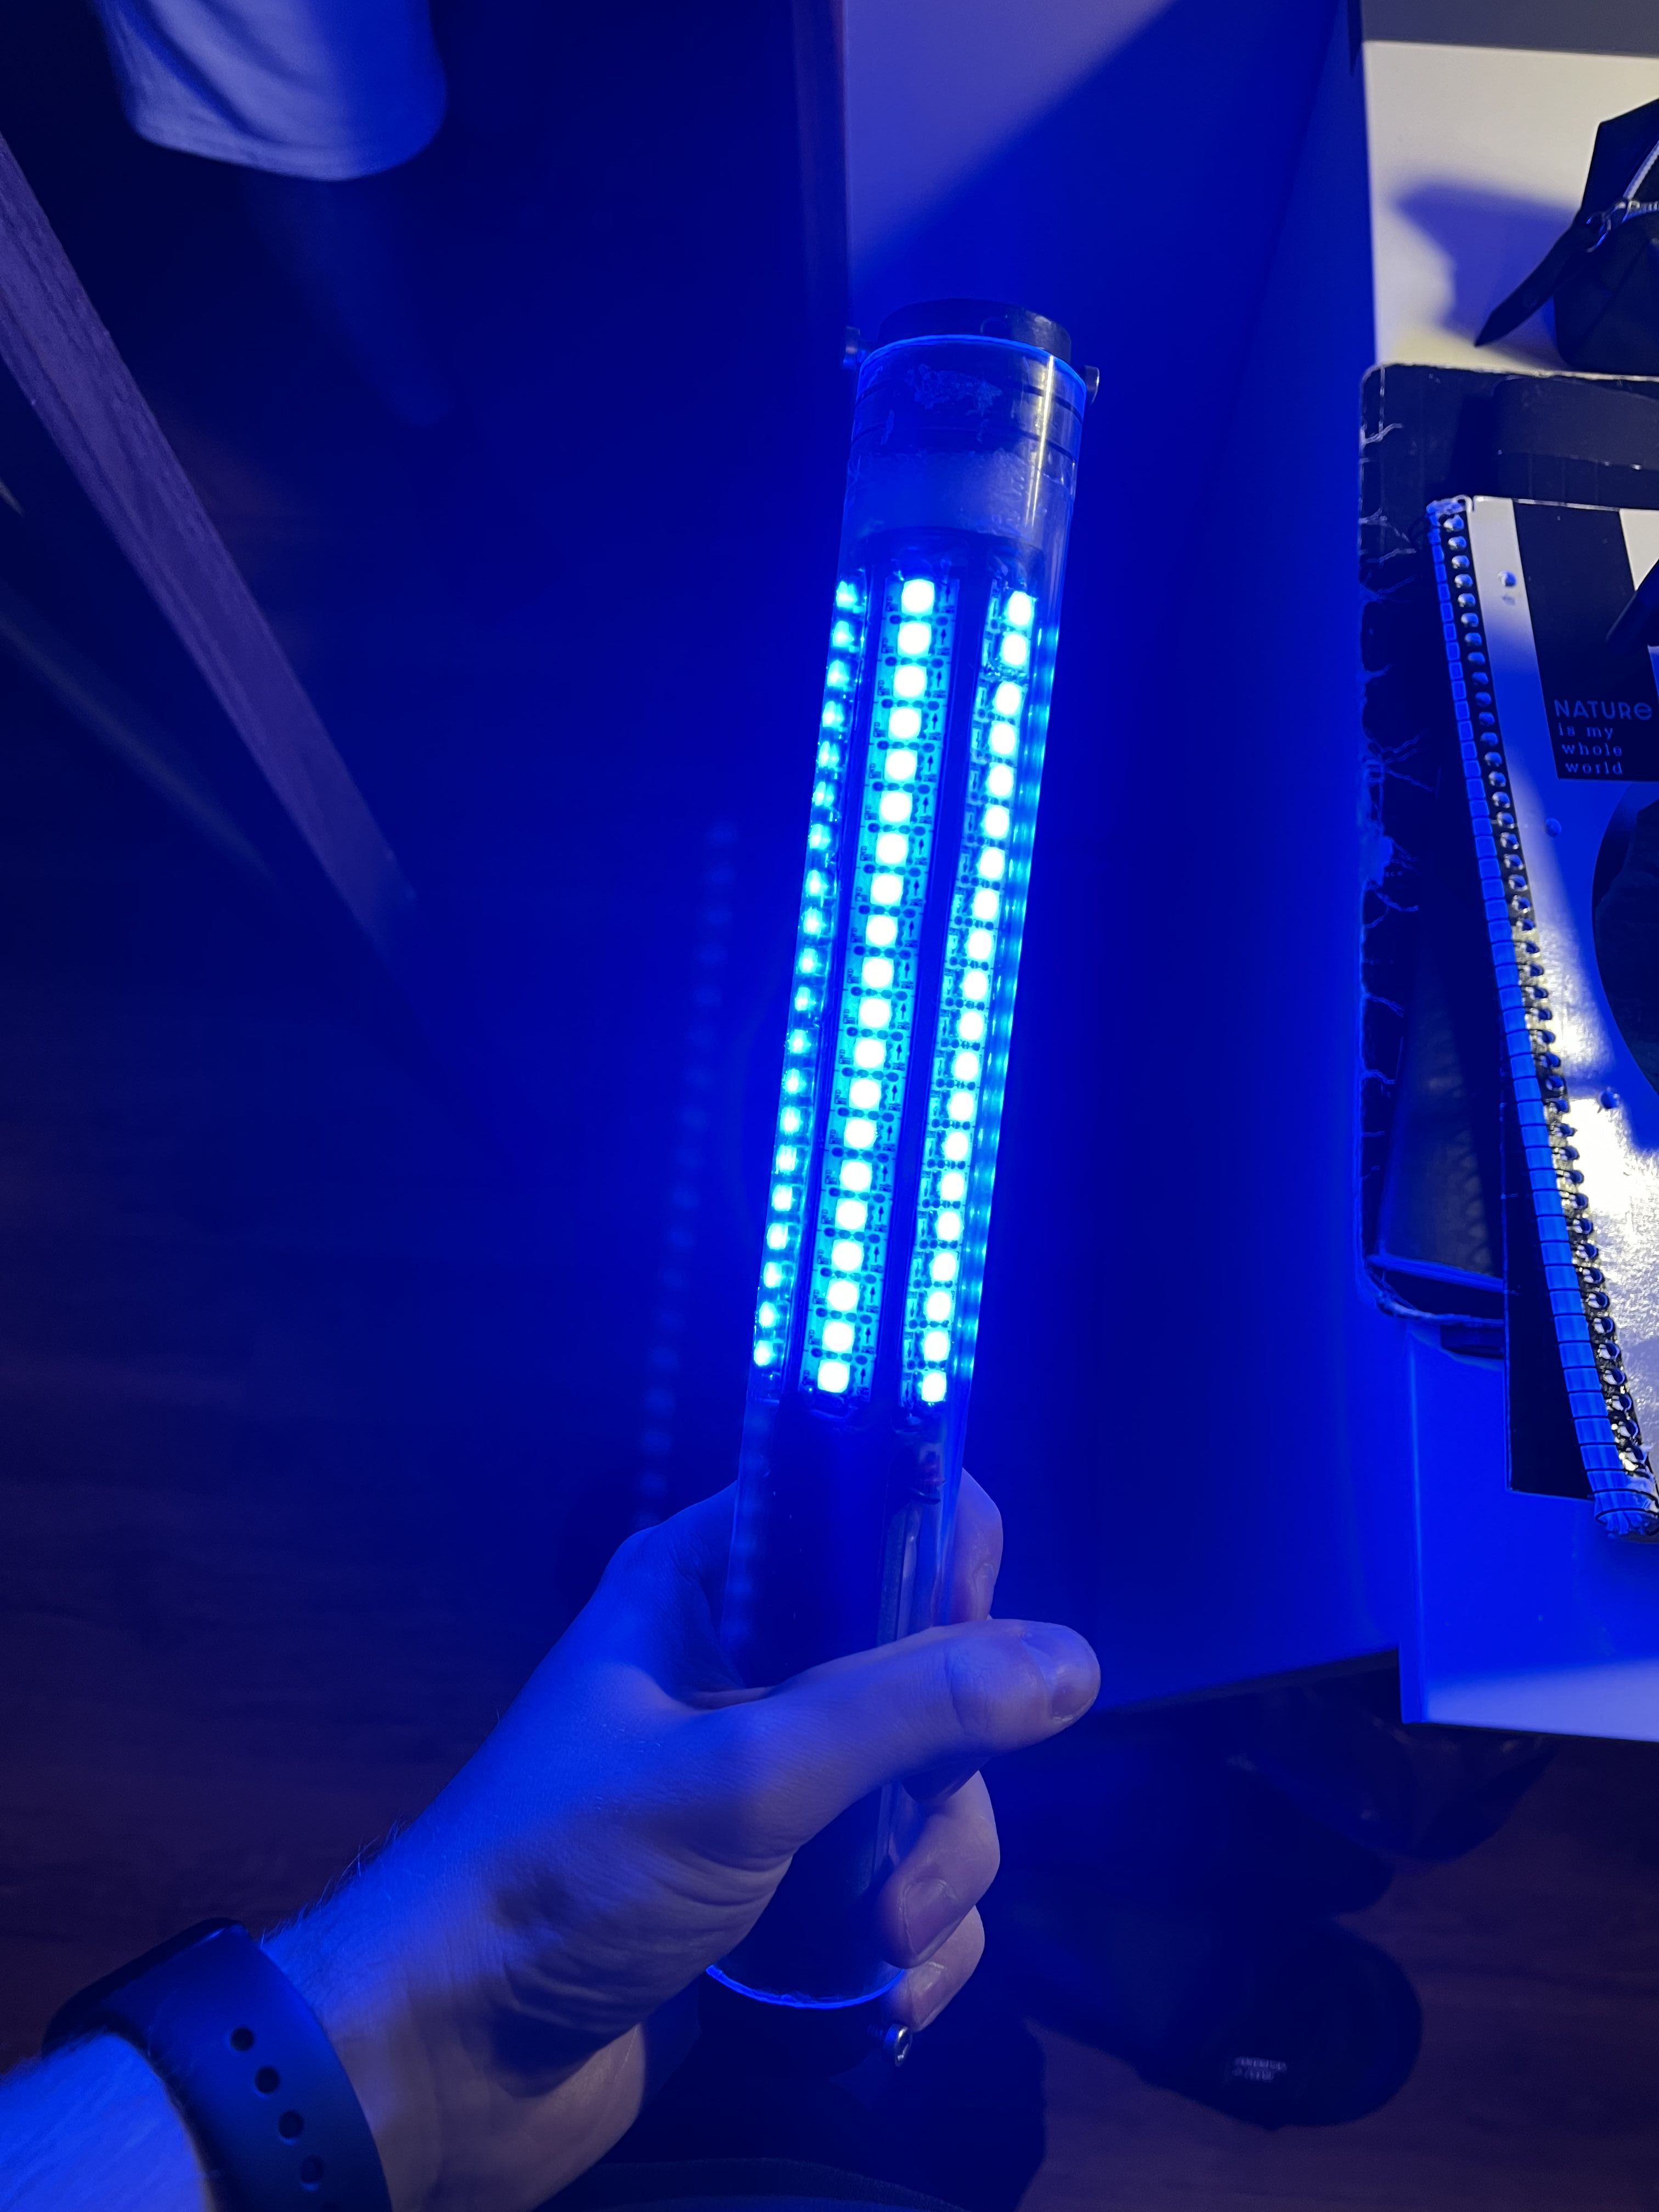blue: (708, 364, 1094, 2024)
